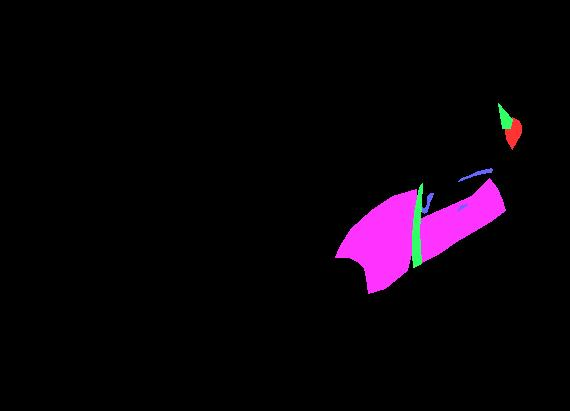Broken part: (412, 183, 422, 267), (498, 103, 512, 128)
Dent: (335, 189, 416, 293), (419, 178, 505, 262)
Missing part: (505, 117, 521, 149)
Scratch: (458, 168, 492, 181), (418, 193, 433, 213), (457, 204, 467, 211)
